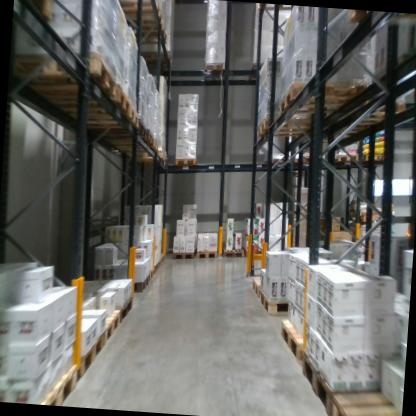pallet: (292, 345, 389, 416), (46, 68, 136, 141), (16, 45, 117, 109), (45, 90, 141, 150), (68, 116, 148, 160), (279, 76, 362, 117), (252, 107, 316, 143), (279, 311, 316, 370), (326, 392, 403, 416), (105, 145, 170, 171), (39, 362, 77, 405), (125, 24, 172, 57), (105, 0, 168, 23), (78, 330, 106, 379), (255, 290, 301, 318), (13, 0, 58, 28), (97, 308, 120, 352), (111, 294, 136, 333), (200, 56, 229, 88), (171, 151, 199, 178), (248, 277, 276, 298), (215, 242, 247, 260), (171, 246, 196, 268), (339, 151, 361, 170), (193, 245, 218, 261), (133, 273, 149, 296), (363, 149, 387, 162), (147, 124, 157, 149), (146, 268, 158, 285), (153, 138, 164, 156), (156, 254, 166, 267), (152, 260, 162, 272)
